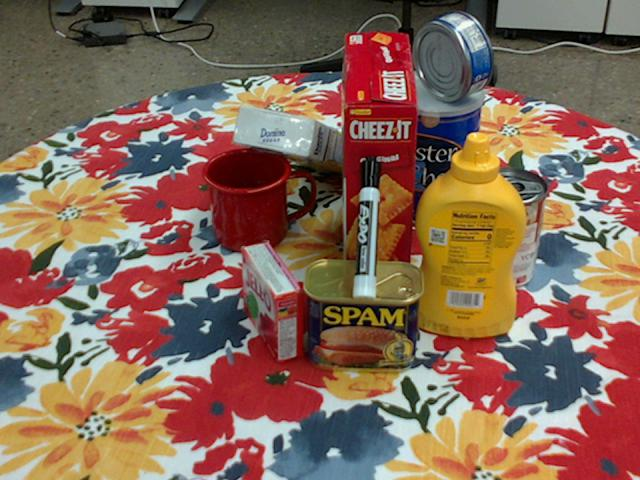cracker_box: (341, 34, 419, 307)
gelatin_box: (243, 240, 304, 361)
large_marker: (354, 155, 380, 298)
master_chef_can: (383, 70, 483, 227)
mug: (203, 147, 316, 253)
mustard_bottle: (411, 132, 526, 338)
potted_meat_can: (304, 258, 425, 372)
sugar_box: (234, 106, 370, 177)
tomato_soup_can: (469, 167, 547, 289)
tuna_fish_can: (411, 12, 492, 101)
